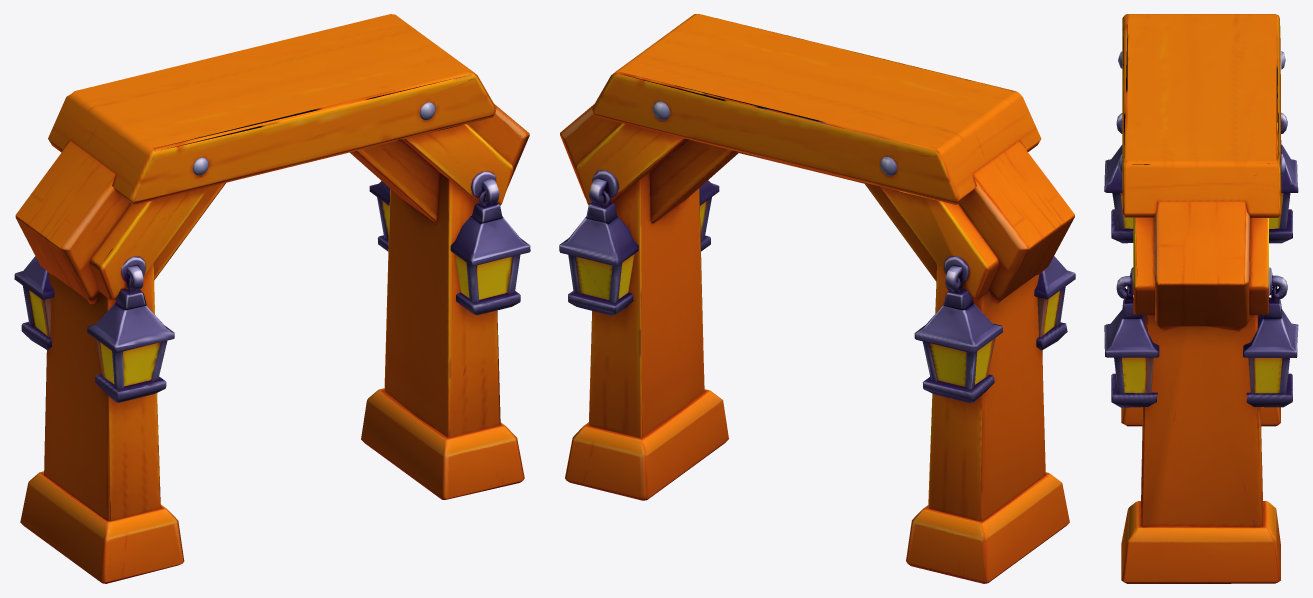
File: Open_entrance.glb
The picture shows the model from 3 angles, left to right: view 1: azimuth 30°, elevation 25°; view 2: azimuth 150°, elevation 25°; view 3: azimuth 270°, elevation 25°; orthographic projection. The views are drawn at different scales.
Visible parts, largest first — view 1: geometry_0; view 2: geometry_0; view 3: geometry_0.
Boxes of the visible parts, x1,y1,x2,y2 form: geometry_0: (14, 14, 530, 583); geometry_0: (559, 14, 1075, 583); geometry_0: (1104, 14, 1298, 583).
Bounding box in the file's own units: 0.9575 × 0.8232 × 0.3623.
Materials: 1 (1 with a texture image).
